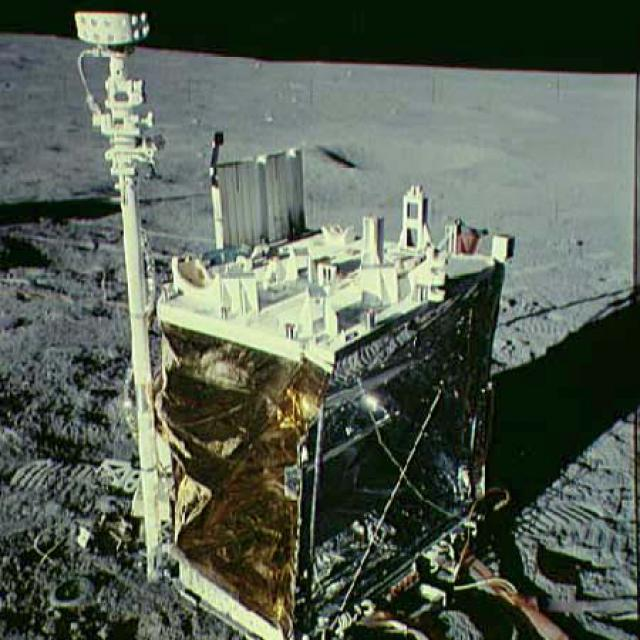crater: (292, 111, 525, 202)
